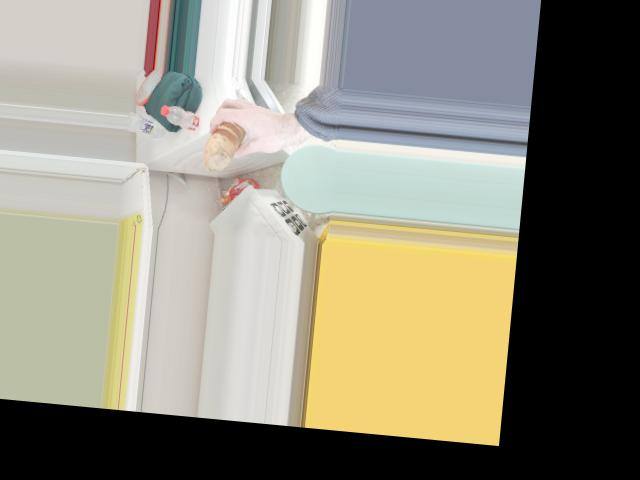sweet_potato: (202, 120, 246, 164)
